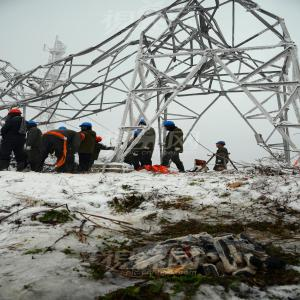blue: (80, 123, 94, 132), (164, 122, 178, 131), (27, 121, 38, 129), (138, 120, 148, 127), (217, 142, 227, 149), (133, 131, 142, 138)
red: (9, 109, 23, 118), (77, 133, 86, 142), (95, 137, 104, 143)
